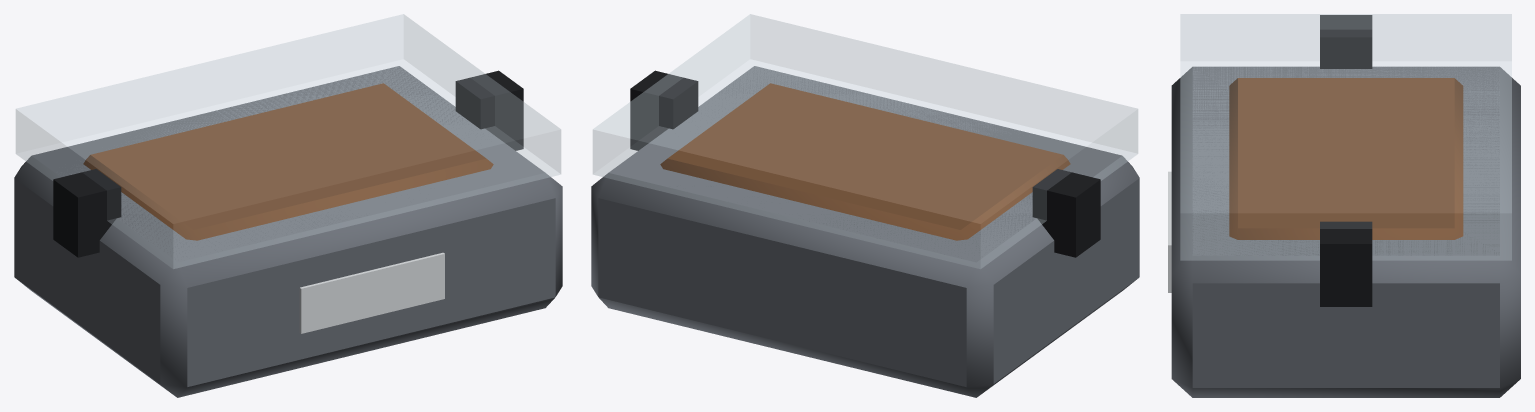
The model's file is tableware_food_container.glb.
3 views of the same model, side by side, from view 1: azimuth 30°, elevation 25°; view 2: azimuth 150°, elevation 25°; view 3: azimuth 270°, elevation 25° (orthographic). The views are drawn at different scales.
Parts seen in each view (by area): view 1: tableware_food_container; view 2: tableware_food_container; view 3: tableware_food_container.
Boxes of the visible parts, x1,y1,x2,y2 form: tableware_food_container: [14, 14, 562, 397]; tableware_food_container: [591, 14, 1139, 397]; tableware_food_container: [1168, 14, 1520, 397].
Bounding box in the file's own units: 0.31 × 0.12 × 0.202.
